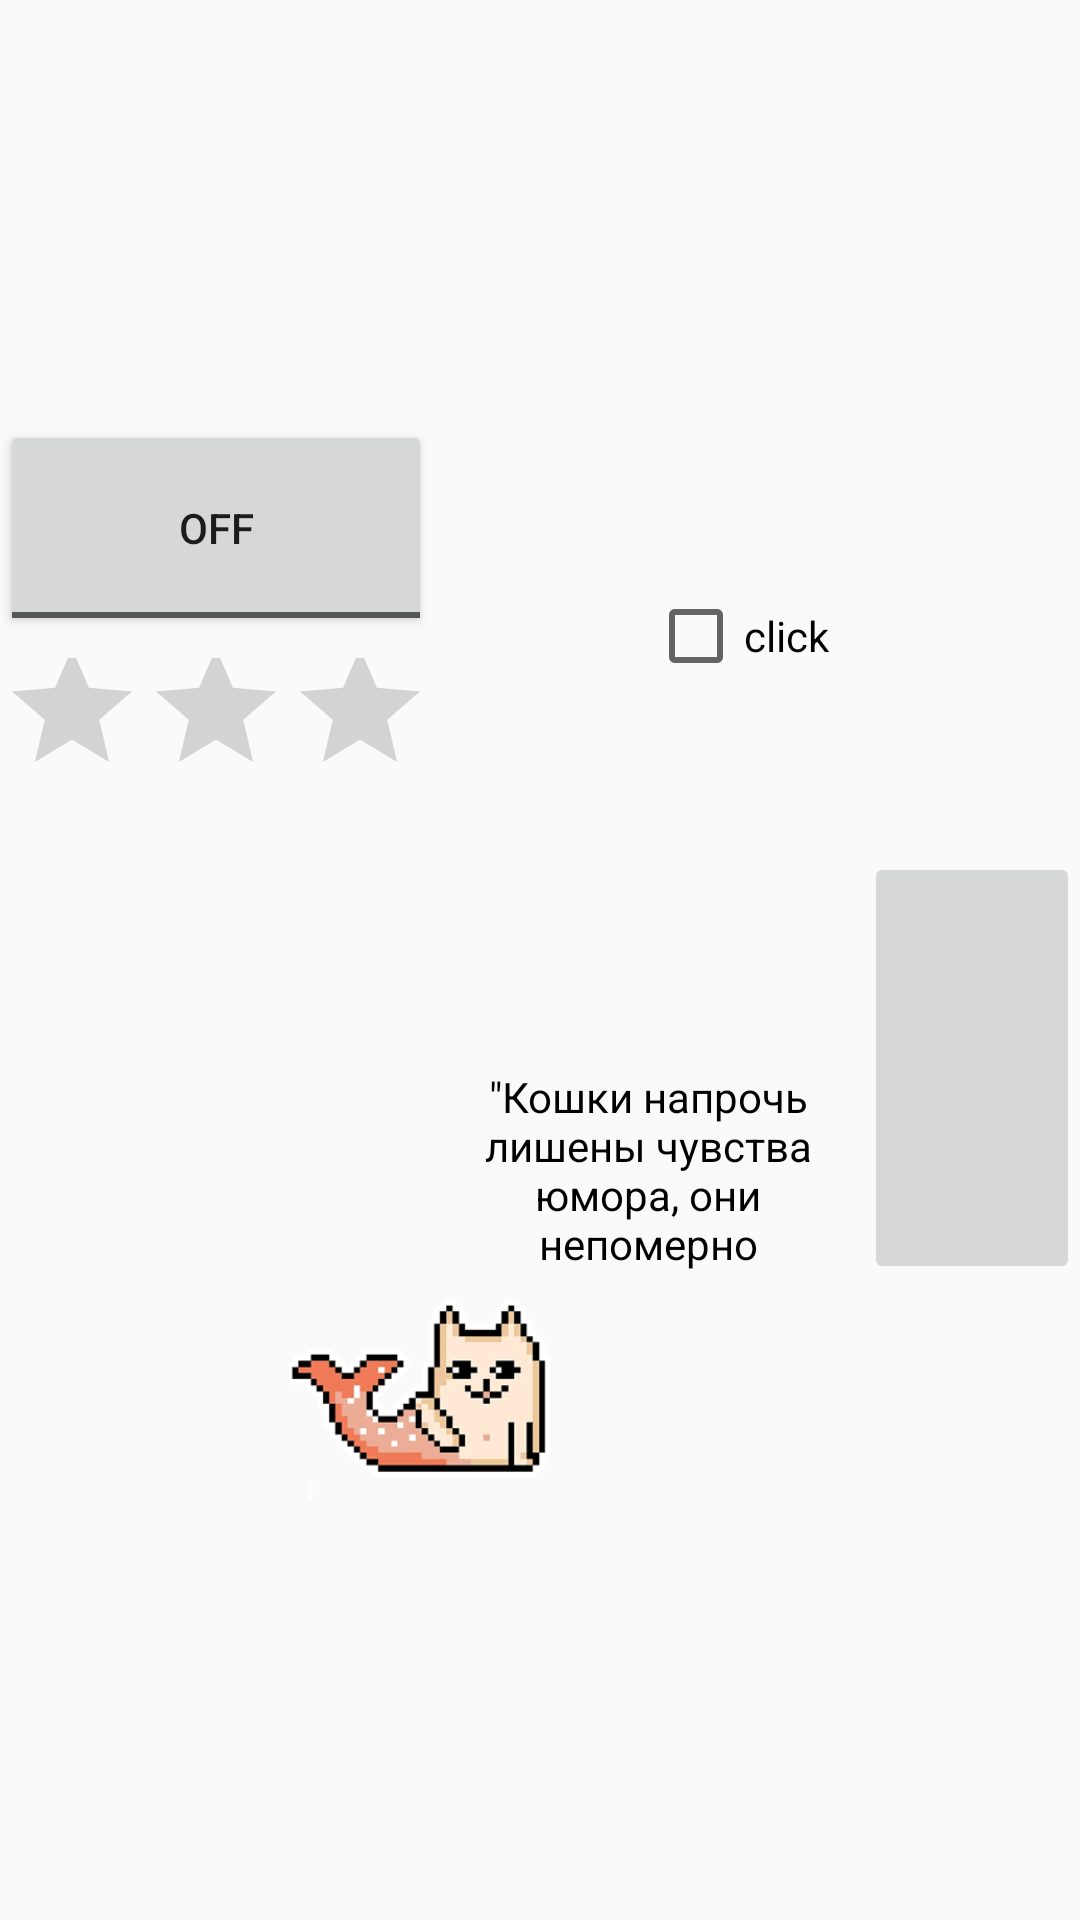

Named icons in this screenshot (1080w x 1920h) and their centers, (x=x, y=y):
catm: (x=418, y=1388)
